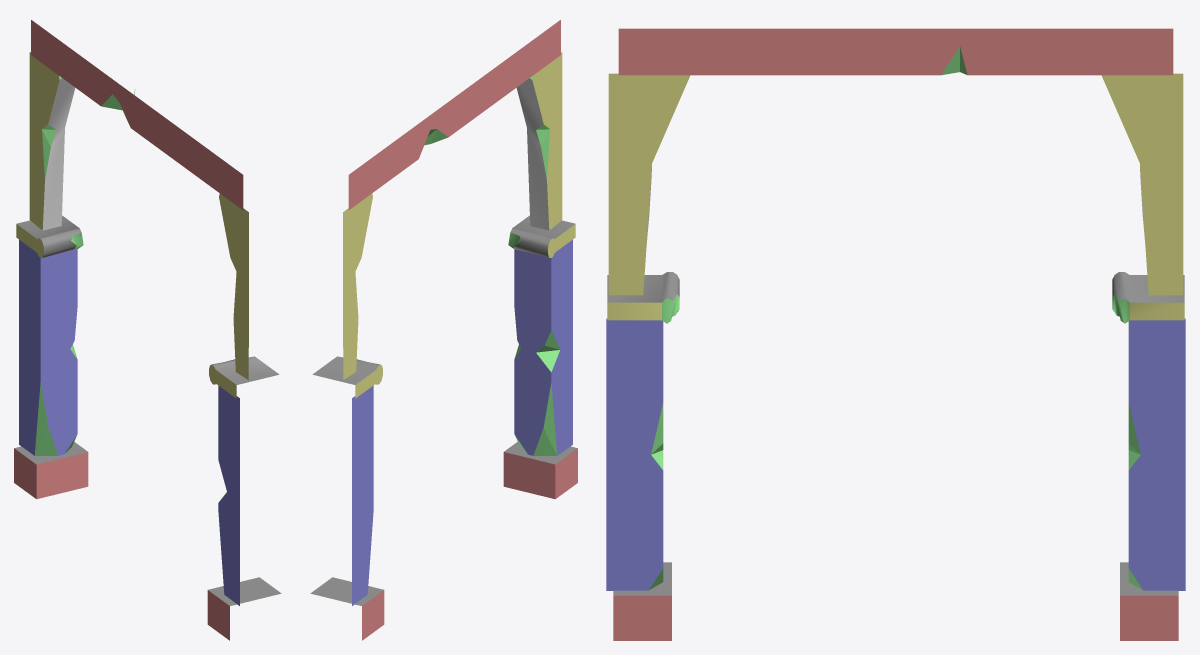
Rendered from SSQ_pillar_033.gltf.
3 views of the same model, side by side, from view 1: azimuth 30°, elevation 25°; view 2: azimuth 150°, elevation 25°; view 3: azimuth 270°, elevation 25° (orthographic). The views are drawn at different scales.
Parts seen in each view (by area): view 1: SSQ_pillar_033; view 2: SSQ_pillar_033; view 3: SSQ_pillar_033.
Part boxes in pixels (x1,y1,x2,y2): SSQ_pillar_033: (14, 20, 281, 640); SSQ_pillar_033: (310, 20, 577, 640); SSQ_pillar_033: (606, 28, 1185, 640).
Bounding box in the file's own units: 0.4517 × 3.84 × 3.34.
